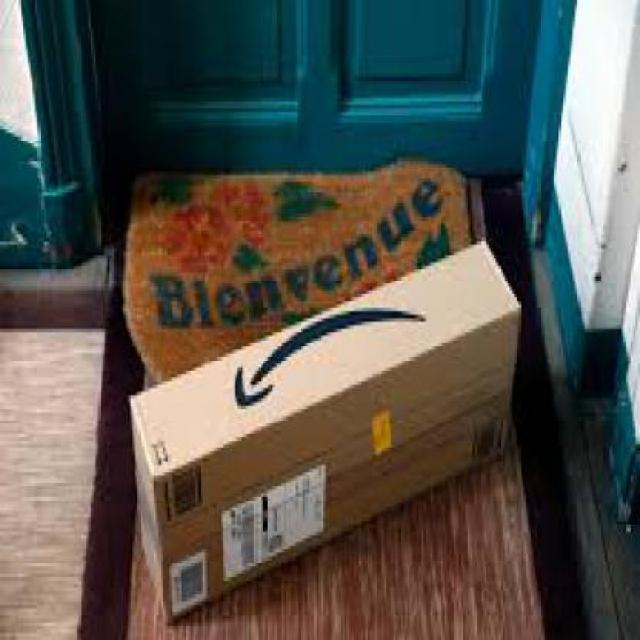cardboxes: (128, 237, 526, 634)
